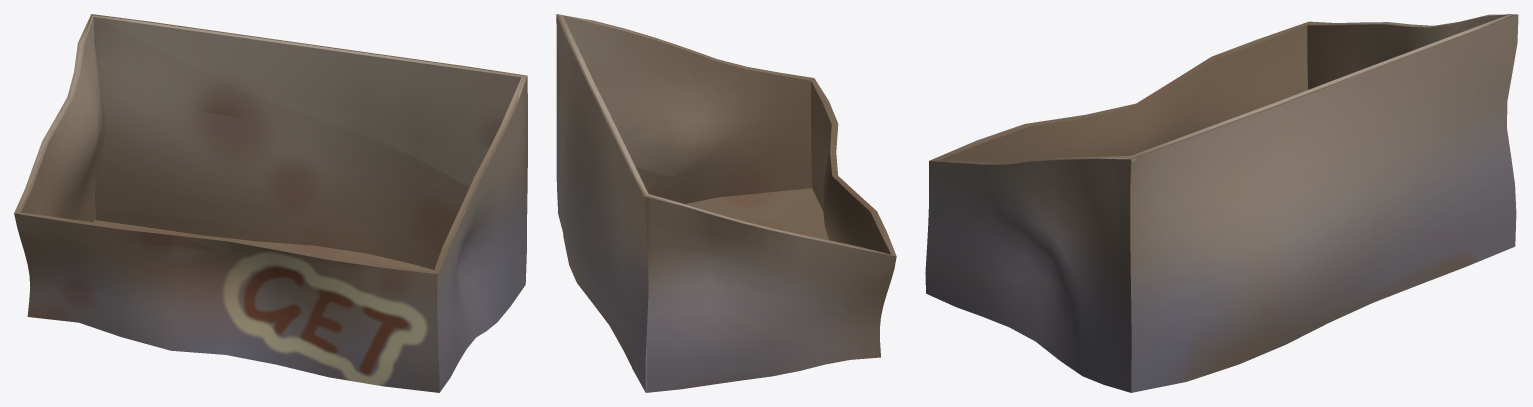
File: frame-top.fbx
The picture shows the model from 3 angles, left to right: view 1: azimuth 30°, elevation 25°; view 2: azimuth 150°, elevation 25°; view 3: azimuth 270°, elevation 25°; orthographic projection. The views are drawn at different scales.
Parts seen in each view (by area): view 1: frame-top; view 2: frame-top; view 3: frame-top.
Part boxes in pixels (x1,y1,x2,y2): frame-top: (14, 14, 527, 392); frame-top: (556, 14, 896, 392); frame-top: (925, 14, 1518, 392).
Bounding box in the file's own units: 211 × 109 × 222.
